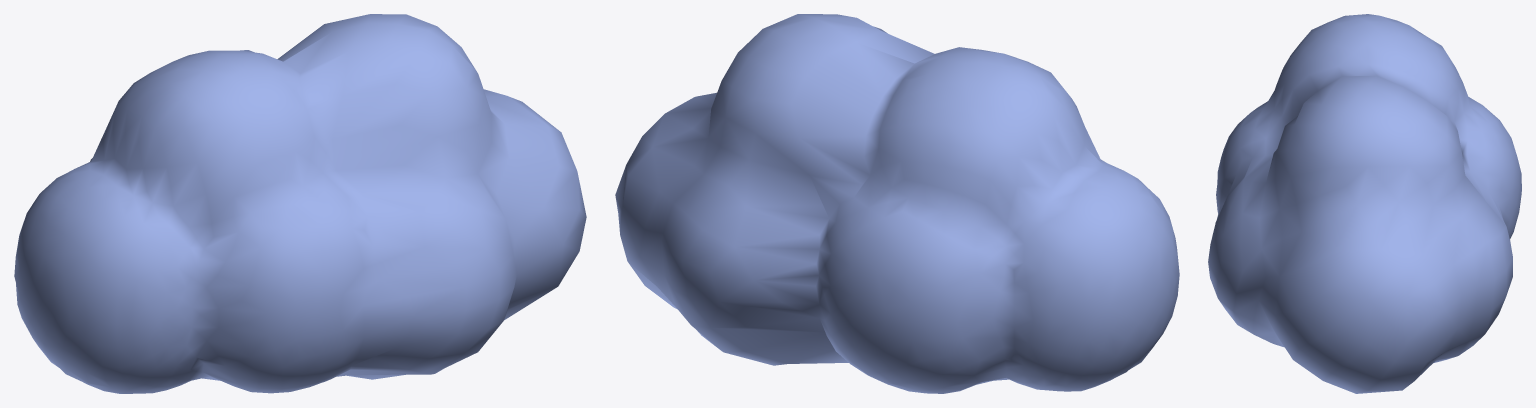
The model's file is nuagebleu.fbx.
3 views of the same model, side by side, from view 1: azimuth 30°, elevation 25°; view 2: azimuth 150°, elevation 25°; view 3: azimuth 270°, elevation 25° (orthographic). The views are drawn at different scales.
Visible parts, largest first — view 1: pPlatonic7; view 2: pPlatonic7; view 3: pPlatonic7.
Part boxes in pixels (box(x1,y1,x2,y2)): pPlatonic7: box(14, 14, 586, 393); pPlatonic7: box(615, 14, 1179, 393); pPlatonic7: box(1208, 14, 1521, 393).
Size of the model in its own units: 2.62 by 1.55 by 1.62.
